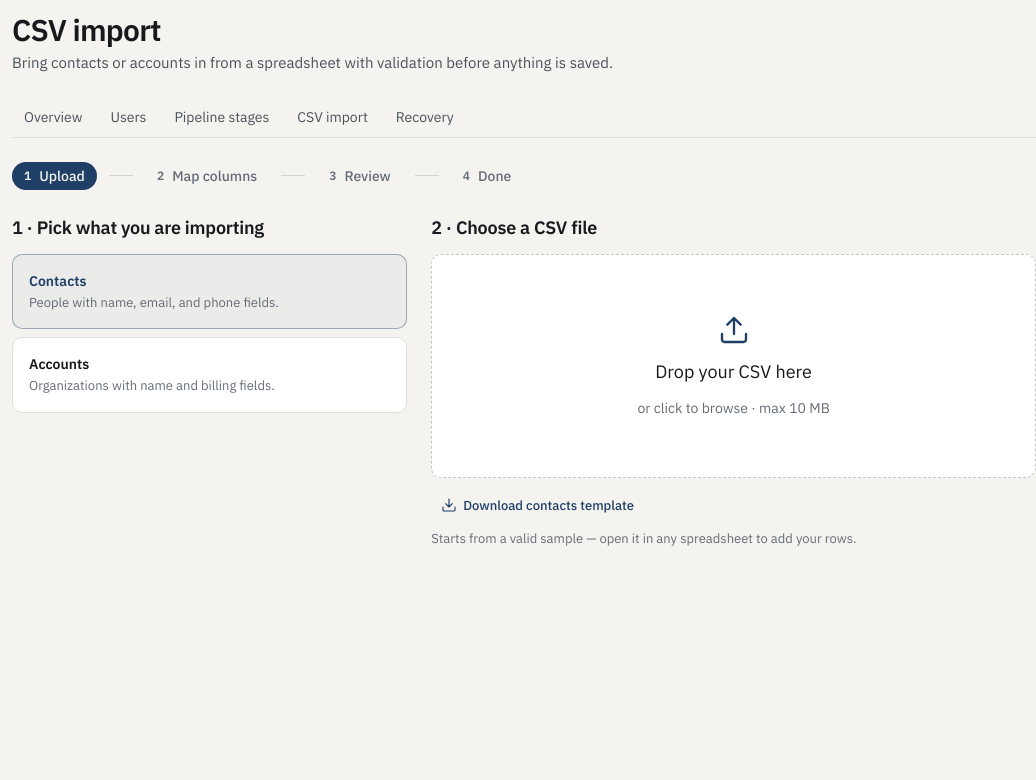
ImportWizardPage › switches the target entity to accounts for upload and template labels
Click the button "Accounts Organizations with name and billing fields." at (210, 375), box left=12, top=337, right=407, bottom=412
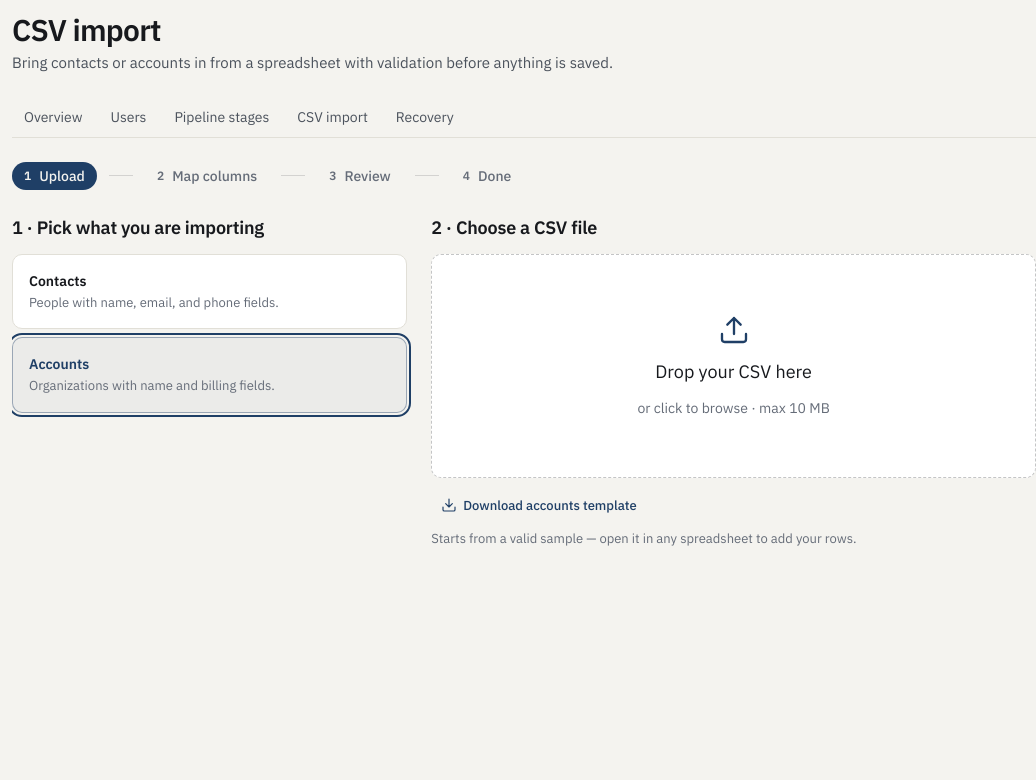
Expected: the button "Download accounts template" is shown, left=431, top=490, right=647, bottom=521
